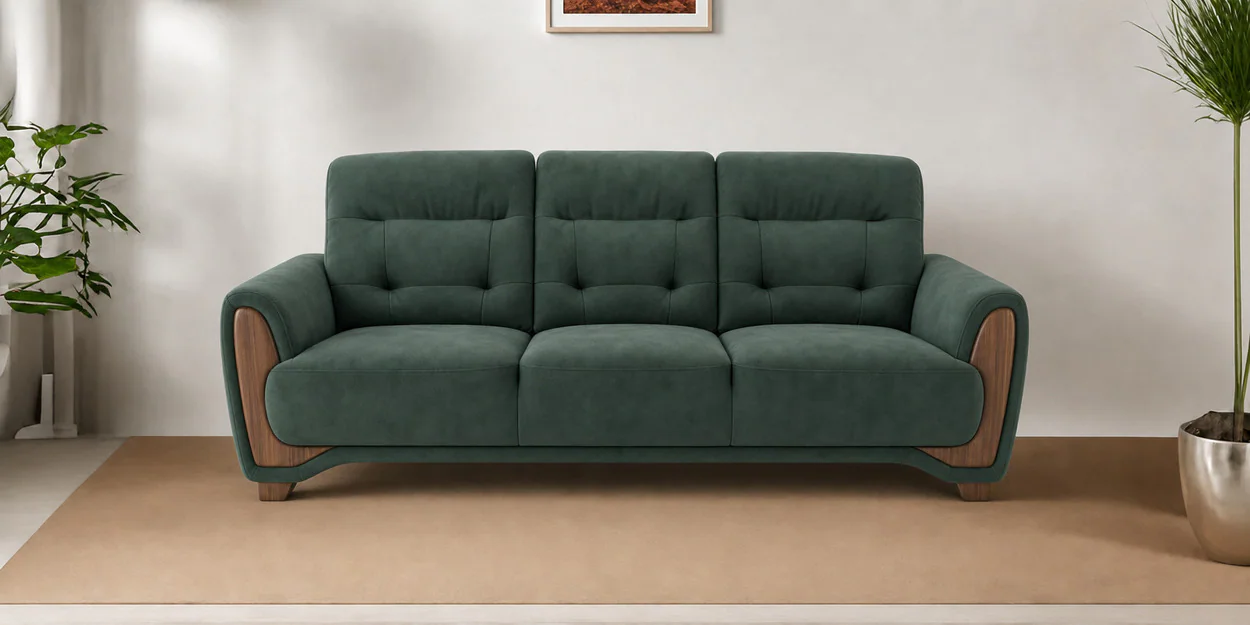3seatersofa: (221, 150, 1029, 500)
backrest: (324, 151, 924, 330)
base: (236, 442, 1010, 482)
leftarmrest: (911, 254, 1027, 477)
leg: (259, 482, 294, 501), (959, 483, 989, 499)
rightarmrest: (221, 255, 334, 481)
seat: (267, 324, 983, 449)
